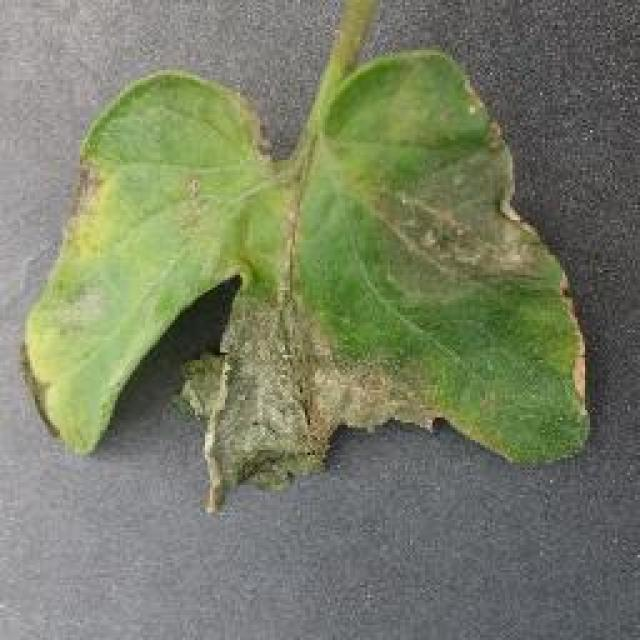Tomato Late Blight: (250, 90, 522, 527)
